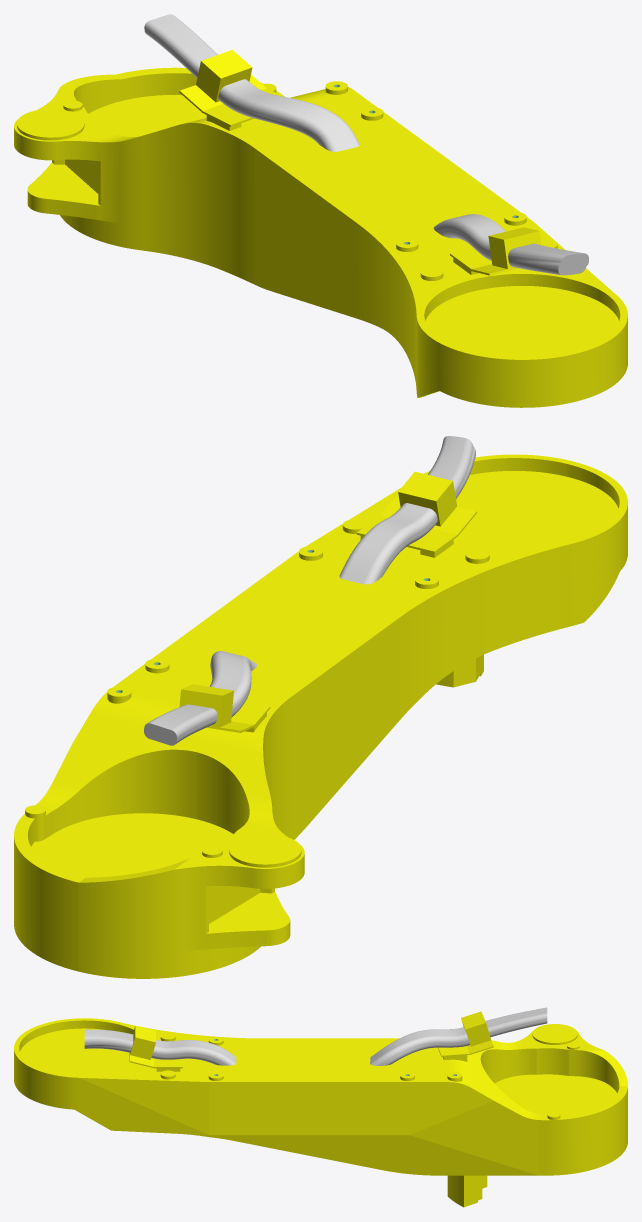
The picture shows the model from 3 angles, top to bottom: view 1: azimuth 30°, elevation 25°; view 2: azimuth 150°, elevation 25°; view 3: azimuth 270°, elevation 25°; orthographic projection. The views are drawn at different scales.
Visible parts, largest first — view 1: Mesh_0; view 2: Mesh_0; view 3: Mesh_0.
Boxes of the visible parts, x1=… form: Mesh_0: x1=14, y1=14, x2=627, y2=407; Mesh_0: x1=14, y1=436, x2=627, y2=978; Mesh_0: x1=14, y1=1007, x2=627, y2=1207.
Size of the model in its own units: 0.4682 by 0.4165 by 1.43.
